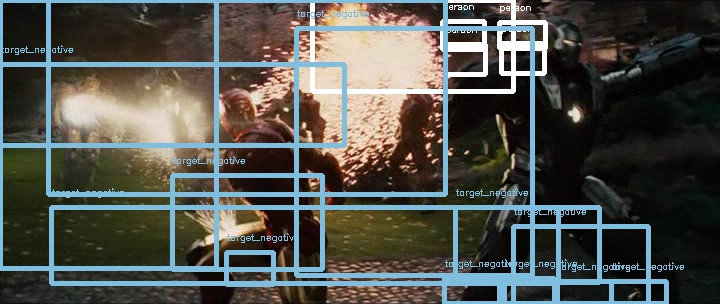person: (212, 81, 255, 132), (211, 81, 254, 132), (213, 81, 256, 132), (212, 80, 255, 131), (212, 82, 255, 133)
target_negative: (625, 99, 701, 245), (552, 25, 635, 105), (444, 91, 514, 183), (151, 237, 449, 245), (676, 220, 698, 262), (501, 123, 502, 146)
